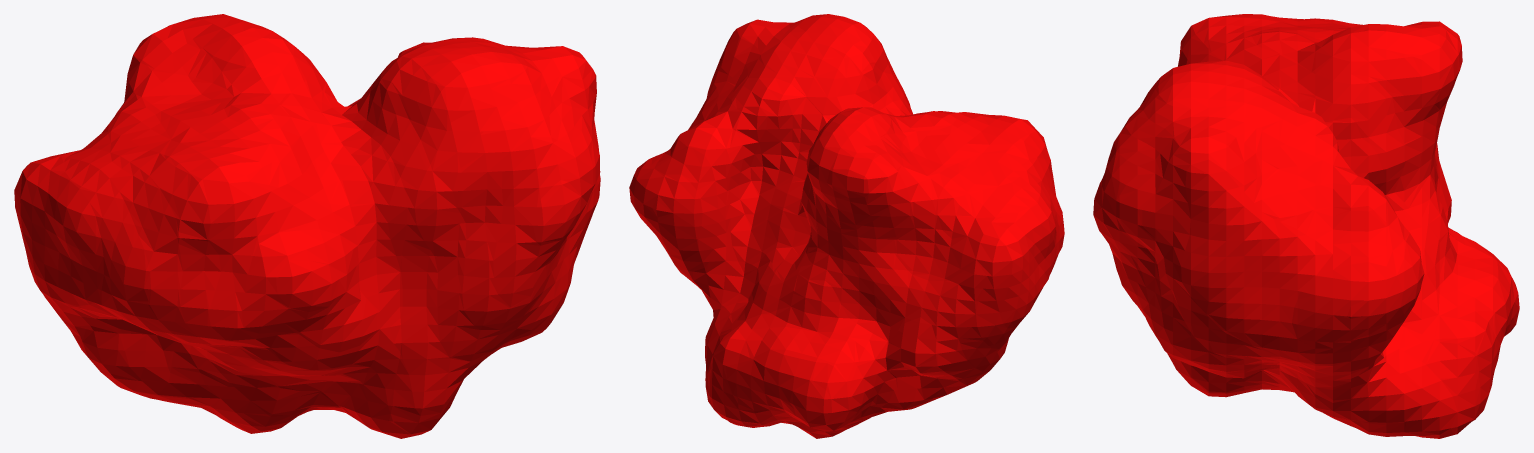
The model's file is argD_coarse.dae.
The picture shows the model from 3 angles, left to right: view 1: azimuth 30°, elevation 25°; view 2: azimuth 150°, elevation 25°; view 3: azimuth 270°, elevation 25°; orthographic projection. The views are drawn at different scales.
Parts seen in each view (by area): view 1: argD; view 2: argD; view 3: argD.
Part boxes in pixels (left/top/right/bottom): argD: left=14, top=14, right=600, bottom=438; argD: left=629, top=14, right=1064, bottom=438; argD: left=1093, top=14, right=1519, bottom=438.
Bounding box in the file's own units: 67.71 × 53.45 × 54.19.
